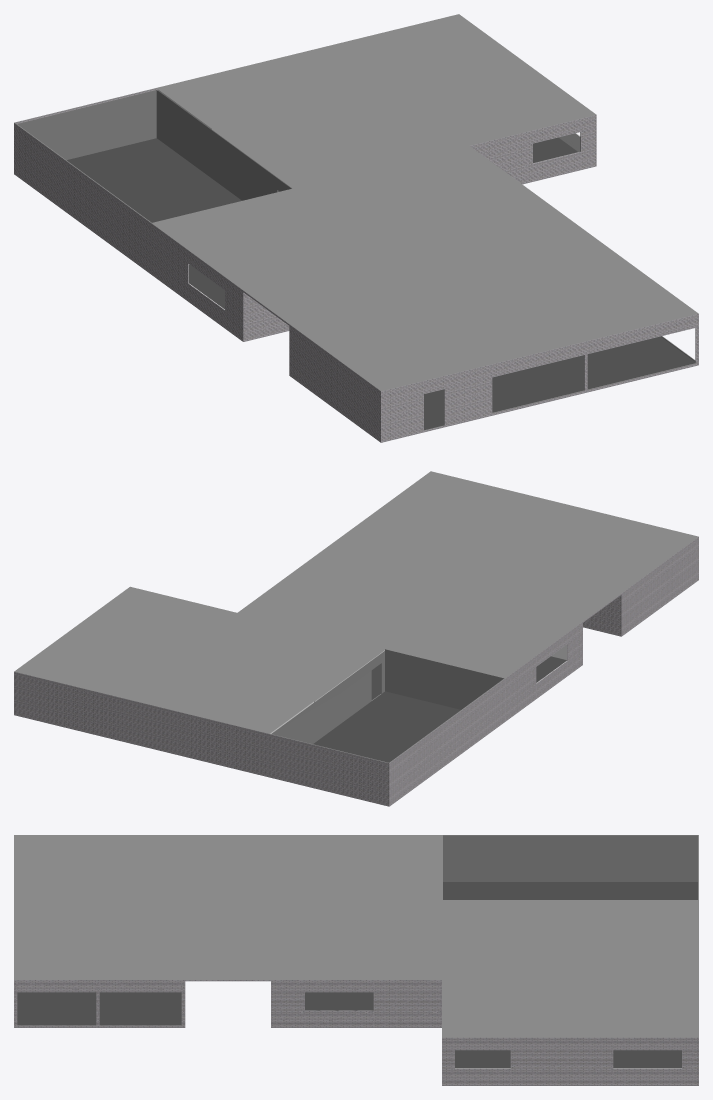
Rendered from Building001_Ground_Floor.FBX.
3 renders of one model, top to bottom at view 1: azimuth 30°, elevation 25°; view 2: azimuth 150°, elevation 25°; view 3: azimuth 270°, elevation 25°, orthographic. The views are drawn at different scales.
Visible parts, largest first — view 1: Ground-Floor; view 2: Ground-Floor; view 3: Ground-Floor.
Part boxes in pixels (x1,y1,x2,y2): Ground-Floor: (14,14,698,442); Ground-Floor: (14,471,698,806); Ground-Floor: (14,835,698,1085).
Size of the model in its own units: 1102 by 122 by 1575.
